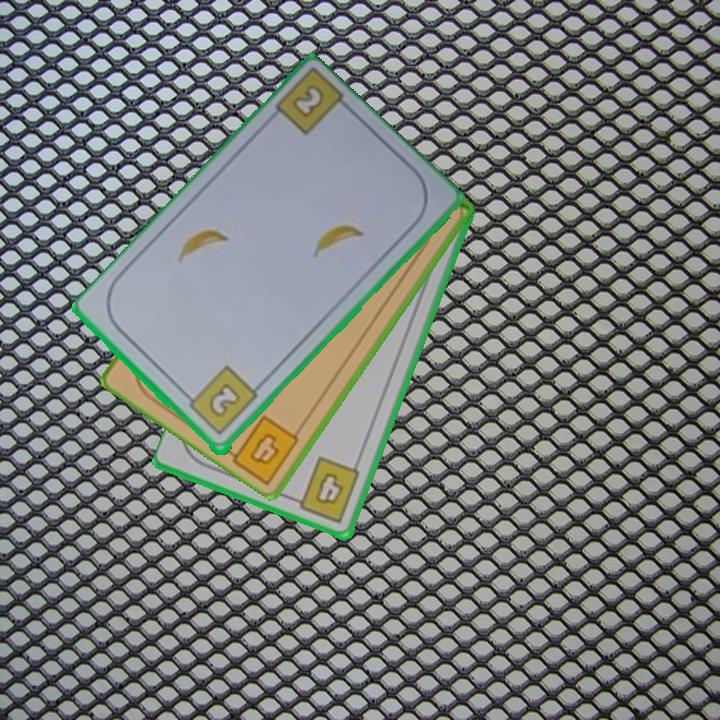2b: (180, 363, 261, 439), (288, 81, 328, 122)
4b: (287, 453, 363, 526), (246, 429, 283, 469)
